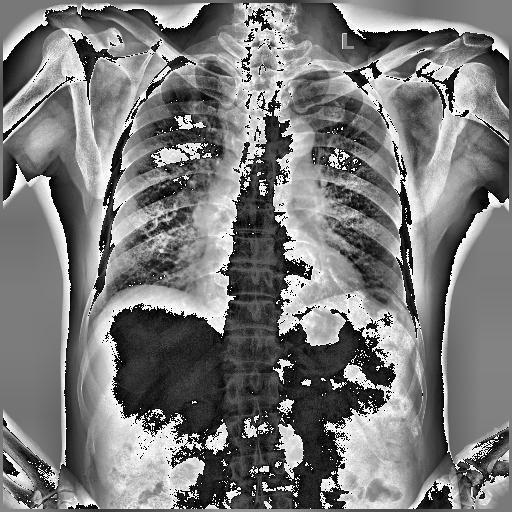0- Aortic enlargement: (269, 115, 316, 181), (268, 118, 314, 170), (277, 116, 314, 160)
3- Cardiomegaly: (194, 252, 368, 318), (192, 262, 368, 309), (190, 263, 364, 302)
5- ILD: (94, 118, 222, 301), (319, 122, 409, 287)
8- Nodule-Mass: (192, 200, 219, 230)
